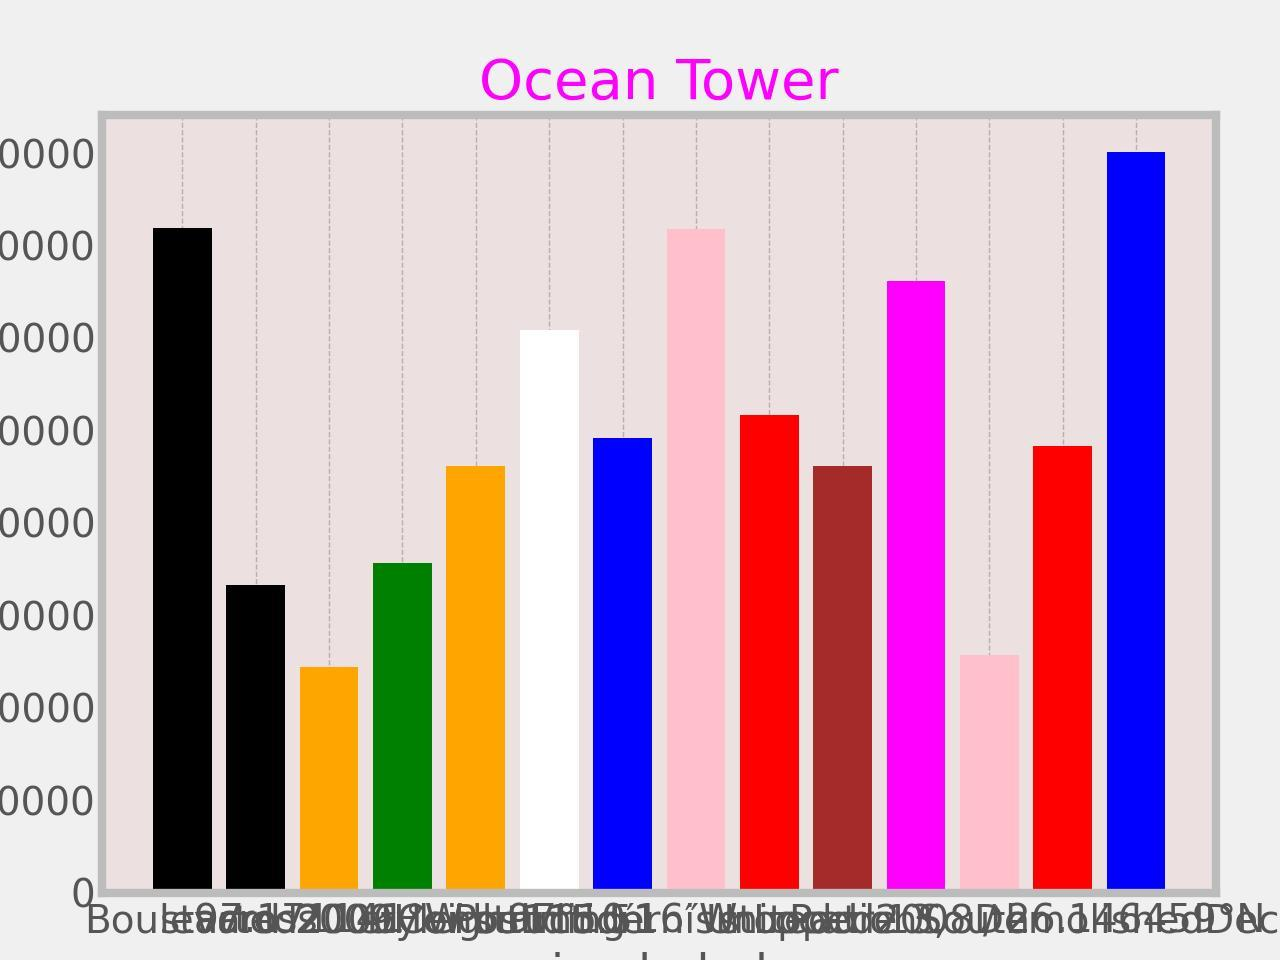axis: (0, 138, 96, 916)
rectangle: (1107, 152, 1165, 893), (666, 230, 726, 892), (153, 228, 212, 893), (887, 281, 945, 893), (519, 330, 579, 893), (740, 415, 798, 893), (593, 439, 652, 892), (1033, 446, 1092, 892), (446, 466, 506, 893), (813, 466, 872, 893), (373, 563, 432, 893), (226, 585, 285, 893), (959, 655, 1019, 893), (299, 668, 359, 892)
